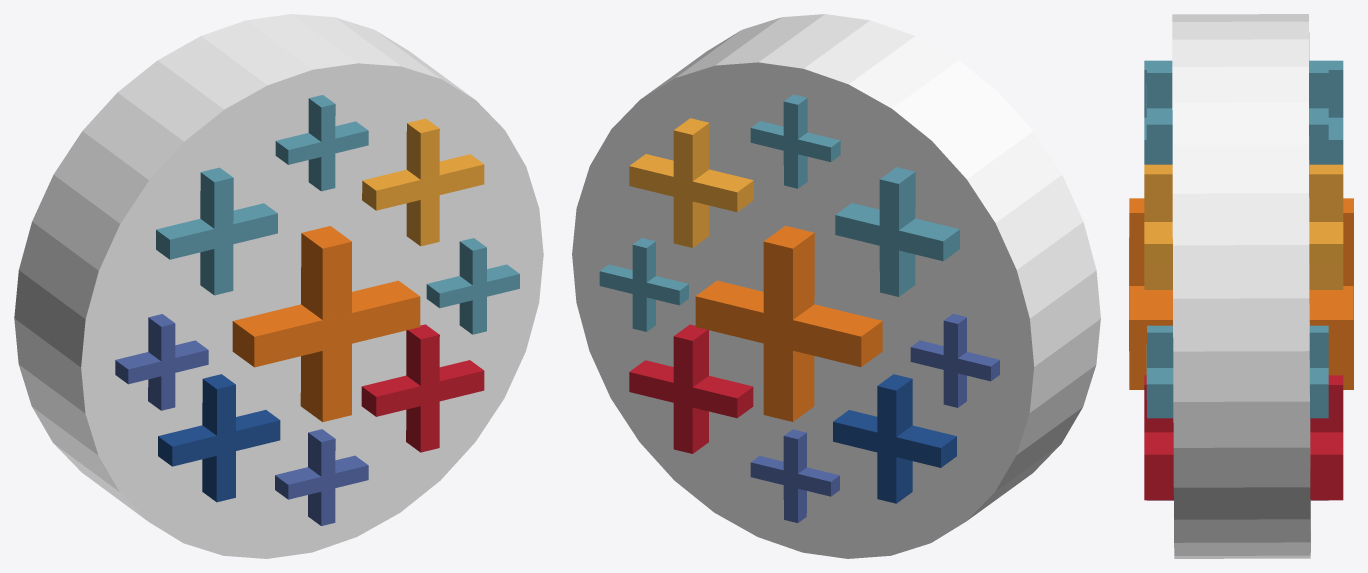
File: tableau.glb
The picture shows the model from 3 angles, left to right: view 1: azimuth 30°, elevation 25°; view 2: azimuth 150°, elevation 25°; view 3: azimuth 270°, elevation 25°; orthographic projection. The views are drawn at different scales.
Parts seen in each view (by area): view 1: Cylinder_1, Cube.009_0; view 2: Cylinder_1, Cube.009_0; view 3: Cylinder_1, Cube.009_0.
Part boxes in pixels (left/top/right/bottom): Cylinder_1: left=14, top=14, right=543, bottom=558; Cube.009_0: left=115, top=95, right=519, bottom=525; Cylinder_1: left=572, top=14, right=1100, bottom=558; Cube.009_0: left=599, top=94, right=999, bottom=522; Cylinder_1: left=1172, top=14, right=1310, bottom=558; Cube.009_0: left=1129, top=60, right=1353, bottom=500.
Bounding box in the file's own units: 5.01 × 5.01 × 2.06.
